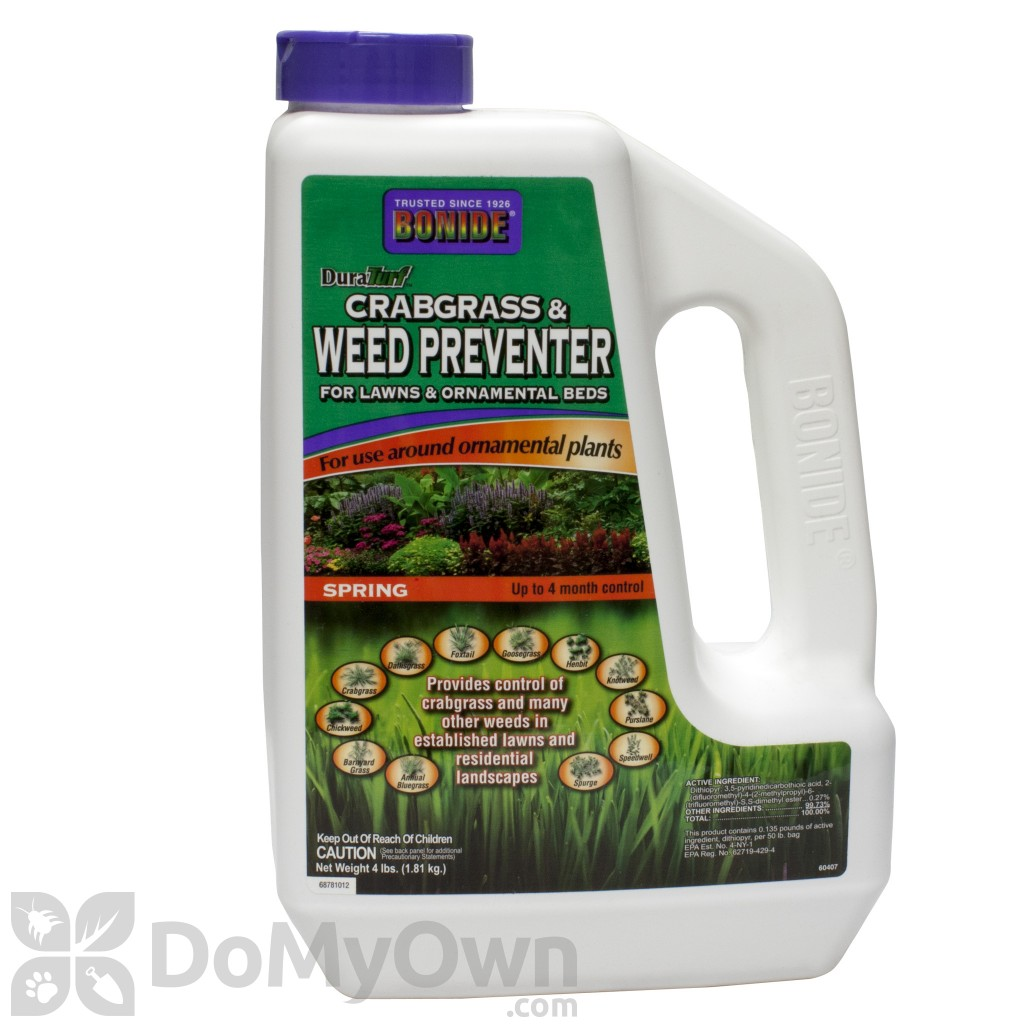crabgrass: (335, 664, 383, 694)
